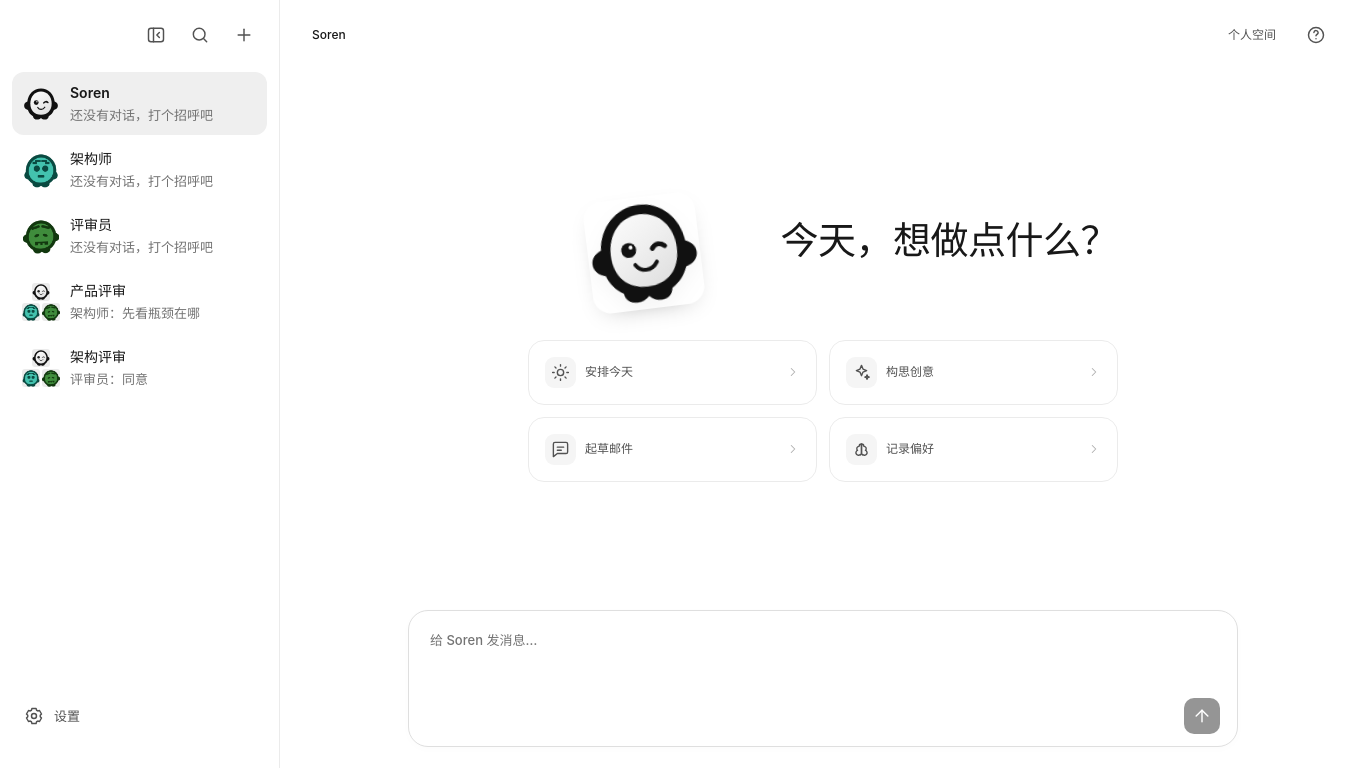
Test case: 群聊状态隔离 › 切换群聊后状态不串，切回同一个群时各自独立
Click the button "产品评审 架构师：先看瓶颈在哪" at [140, 302], box x1=12 y1=270 x2=267 y2=333
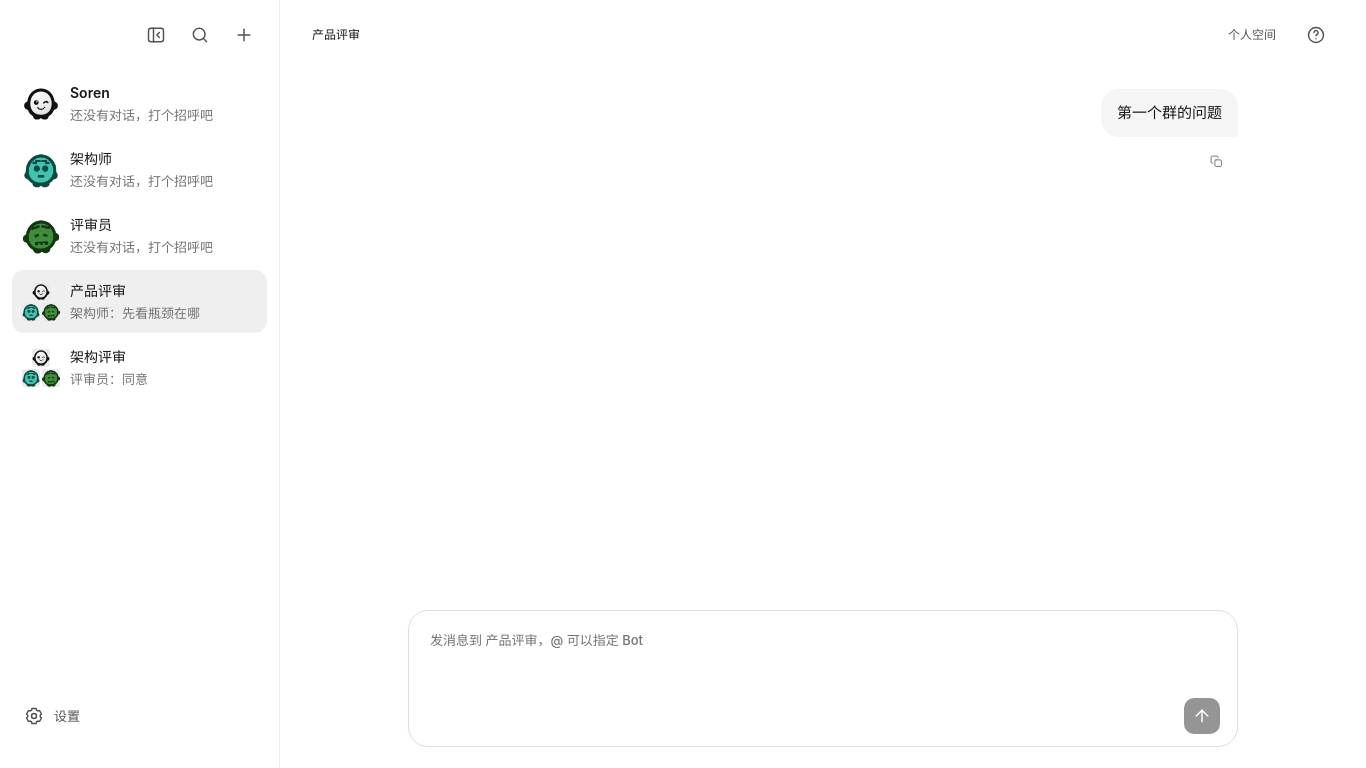
Check: the text "第一个群的问题" is shown, box x1=1101 y1=89 x2=1238 y2=137
Click the button "架构评审 评审员：同意" at [140, 368], box x1=12 y1=336 x2=267 y2=399
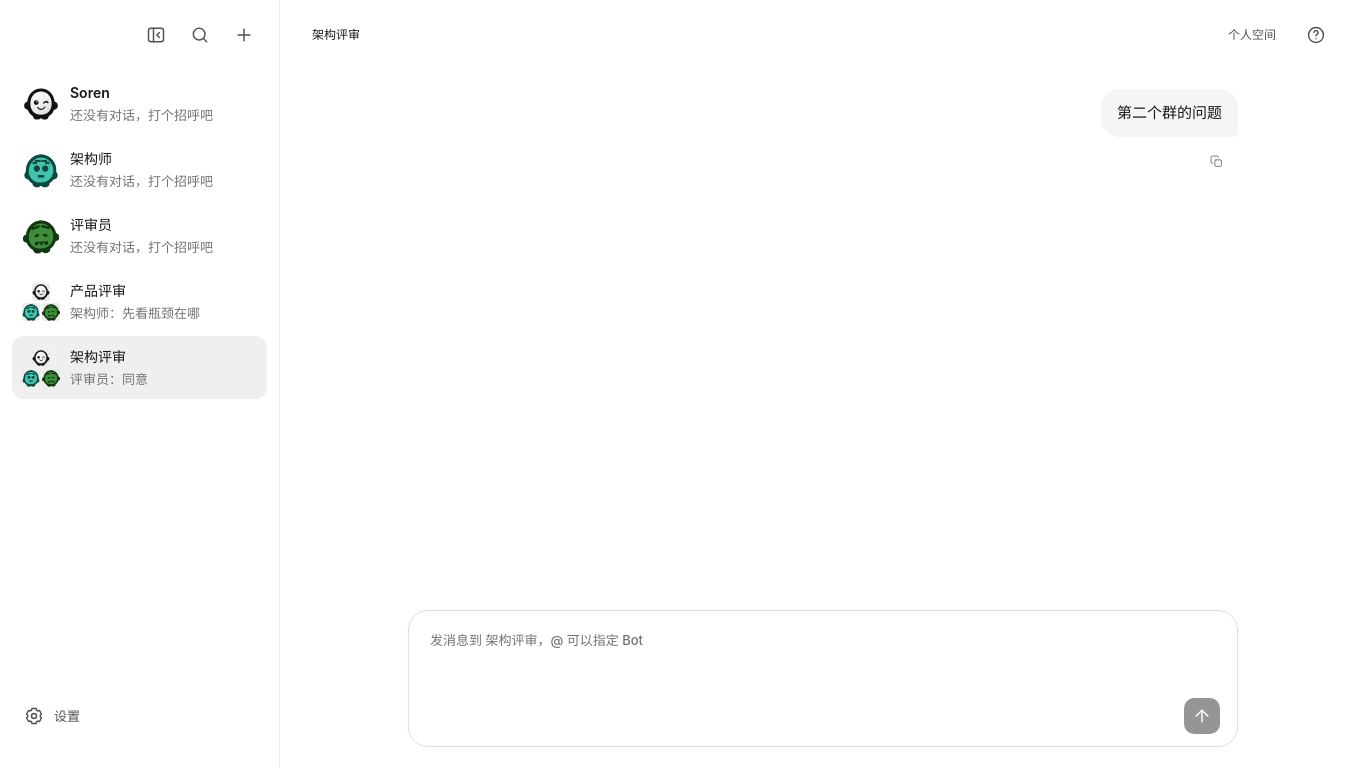
Check: the text "第二个群的问题" is shown, box x1=1101 y1=89 x2=1238 y2=137
Check: the text "第一个群的问题" is gone
Click the button "产品评审 架构师：先看瓶颈在哪" at [140, 302], box x1=12 y1=270 x2=267 y2=333
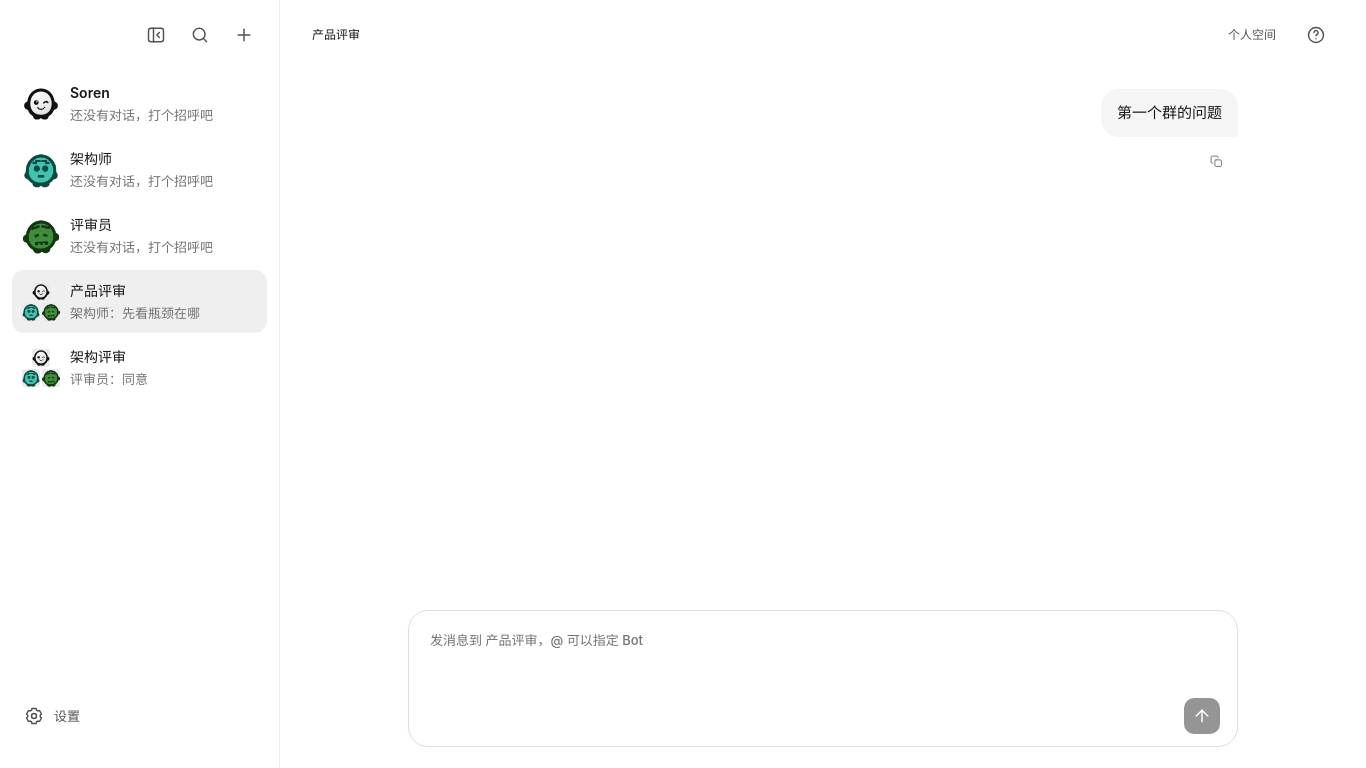
Check: the text "第一个群的问题" is shown, box x1=1101 y1=89 x2=1238 y2=137
Check: the text "第二个群的问题" is gone
